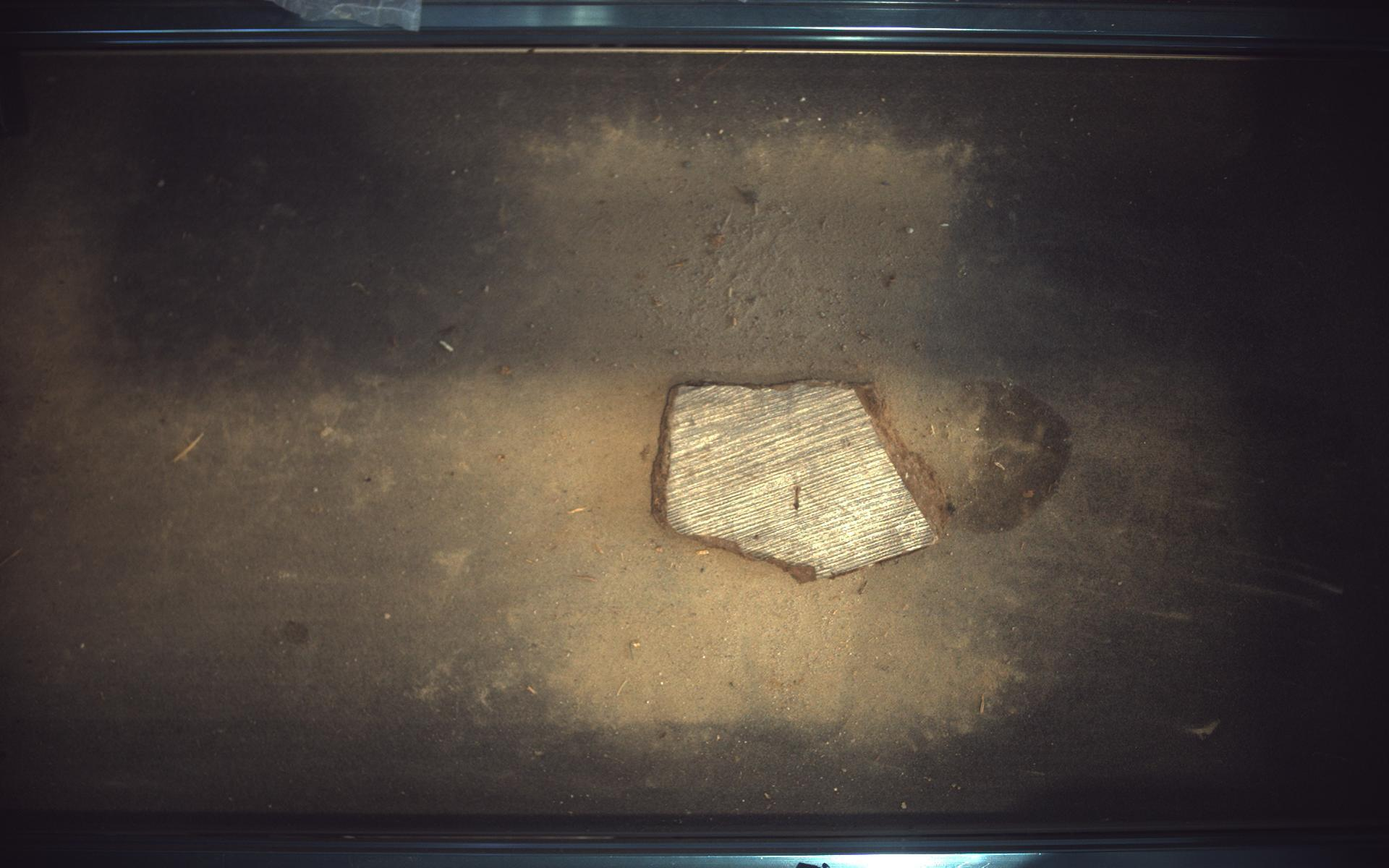wood: (653, 380, 950, 582)
